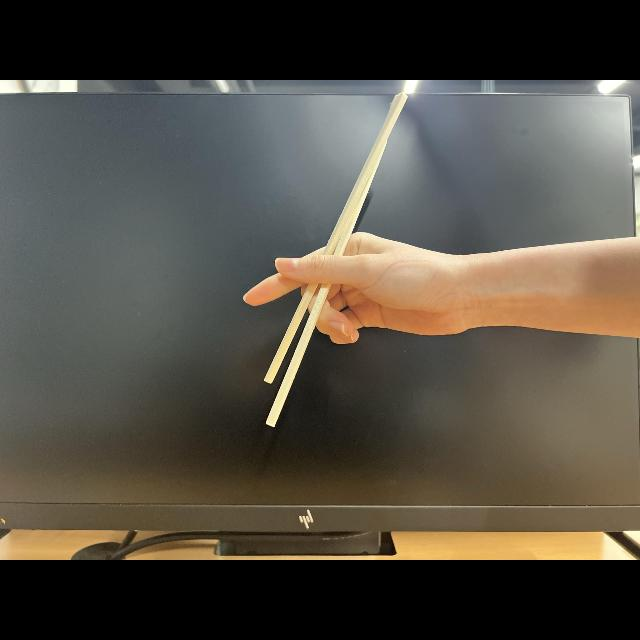stick: (241, 96, 443, 430)
